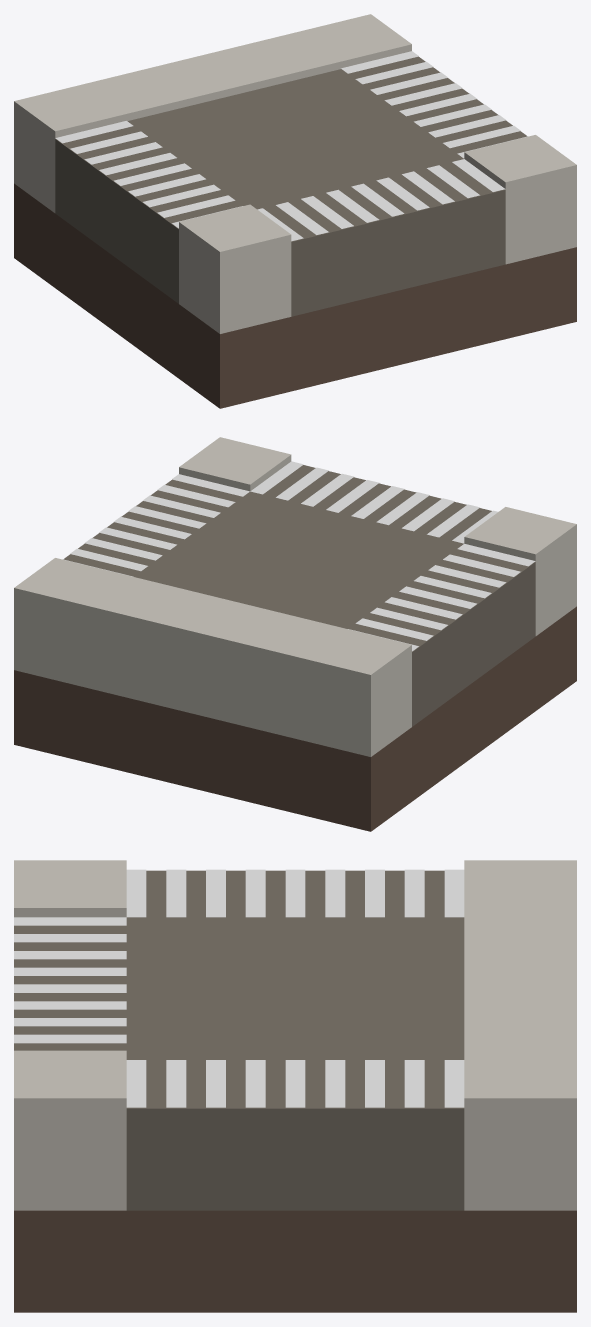
The model's file is road-tile-crossing-T_small.fbx.
3 views of the same model, one above another, from view 1: azimuth 30°, elevation 25°; view 2: azimuth 150°, elevation 25°; view 3: azimuth 270°, elevation 25° (orthographic). The views are drawn at different scales.
Visible parts, largest first — view 1: road-tile-crossing-T_small; view 2: road-tile-crossing-T_small; view 3: road-tile-crossing-T_small.
Part boxes in pixels (x1,y1,x2,y2): road-tile-crossing-T_small: (14, 14, 576, 408); road-tile-crossing-T_small: (14, 437, 576, 831); road-tile-crossing-T_small: (14, 860, 576, 1312).
Size of the model in its own units: 1000 by 420 by 1000.
